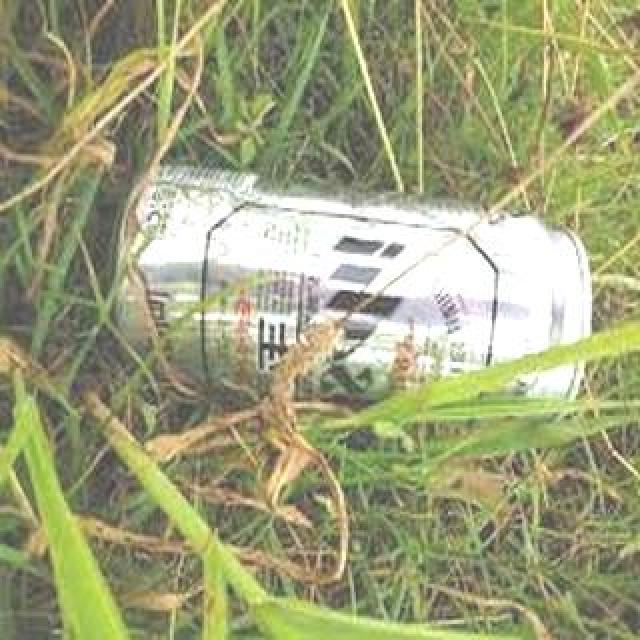Can: (100, 157, 592, 441)
